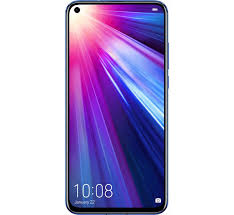huawei: (62, 1, 168, 215)
